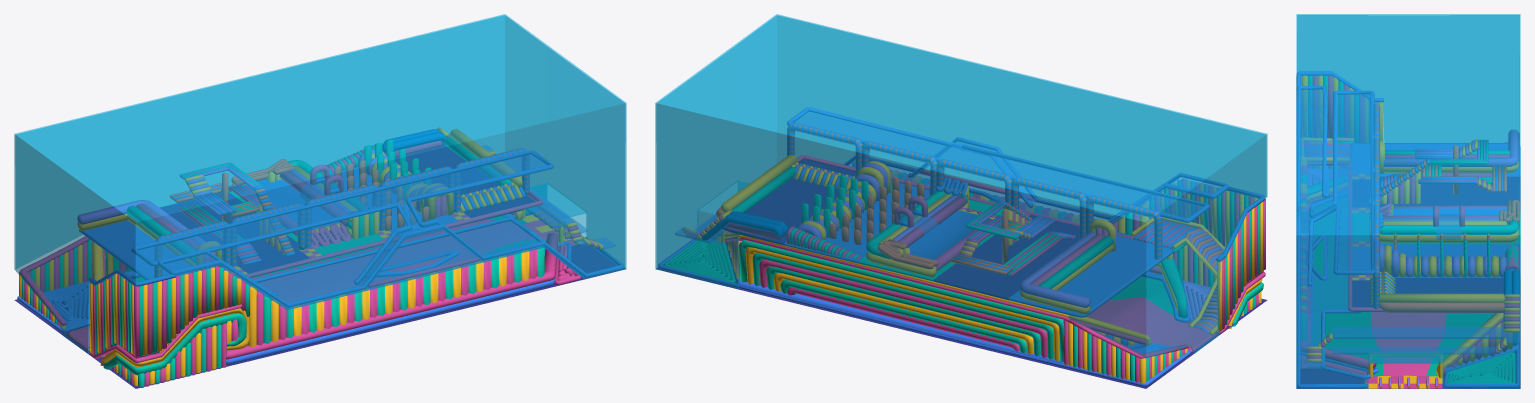
The model's file is dcl_knockout_stadium.glb.
3 renders of one model, left to right at view 1: azimuth 30°, elevation 25°; view 2: azimuth 150°, elevation 25°; view 3: azimuth 270°, elevation 25°, orthographic. The views are drawn at different scales.
Parts seen in each view (by area): view 1: externalWall, game_floor, Cylinder.033, platform.001, newCourse_mod, Cylinder.214, platform, Cylinder.211, newArch, Cylinder.032, course, Cylinder.213 (+22 smaller); view 2: externalWall, game_floor, Cylinder.214, platform, newArch, newCourse_mod, Cylinder.211, Cylinder.014, Cylinder.016, Cylinder.017, Cylinder.079, Cylinder.015 (+28 smaller); view 3: externalWall, newCourse_mod, game_floor, platform.001, platform, Cylinder.214, front_ramp, Cylinder.211, Cylinder.073, archCurve.004, Cylinder.072, Cylinder.090 (+43 smaller).
Boxes of the visible parts, x1,y1,x2,y2 form: externalWall: [14, 14, 626, 353]; game_floor: [79, 142, 535, 279]; Cylinder.033: [286, 246, 544, 338]; platform.001: [165, 203, 583, 309]; newCourse_mod: [66, 216, 547, 353]; Cylinder.214: [17, 210, 624, 332]; platform: [139, 154, 545, 261]; Cylinder.211: [131, 150, 553, 284]; newArch: [154, 148, 529, 277]; Cylinder.032: [226, 232, 558, 359]; course: [14, 214, 625, 388]; Cylinder.213: [90, 191, 542, 362]; externalWall: [655, 14, 1267, 357]; game_floor: [721, 159, 1173, 317]; Cylinder.214: [658, 137, 1228, 386]; platform: [794, 111, 1202, 217]; newArch: [787, 123, 1162, 259]; newCourse_mod: [1087, 276, 1218, 351]; Cylinder.211: [787, 107, 1209, 222]; Cylinder.014: [738, 240, 1064, 362]; Cylinder.016: [752, 253, 1054, 359]; Cylinder.017: [759, 259, 1047, 357]; Cylinder.079: [908, 211, 992, 270]; Cylinder.015: [745, 247, 1059, 360]; externalWall: [1296, 14, 1520, 388]; newCourse_mod: [1311, 201, 1494, 376]; game_floor: [1352, 143, 1520, 311]; platform.001: [1301, 90, 1347, 368]; platform: [1337, 94, 1370, 270]; Cylinder.214: [1296, 86, 1519, 388]; front_ramp: [1307, 327, 1519, 368]; Cylinder.211: [1307, 90, 1375, 286]; Cylinder.073: [1380, 220, 1519, 242]; archCurve.004: [1405, 255, 1506, 276]; Cylinder.072: [1389, 204, 1519, 242]; Cylinder.090: [1379, 272, 1504, 312].
Size of what is drawn, in the model's own units: 112 by 37.74 by 48.
Materials: 4 (3 with a texture image).
